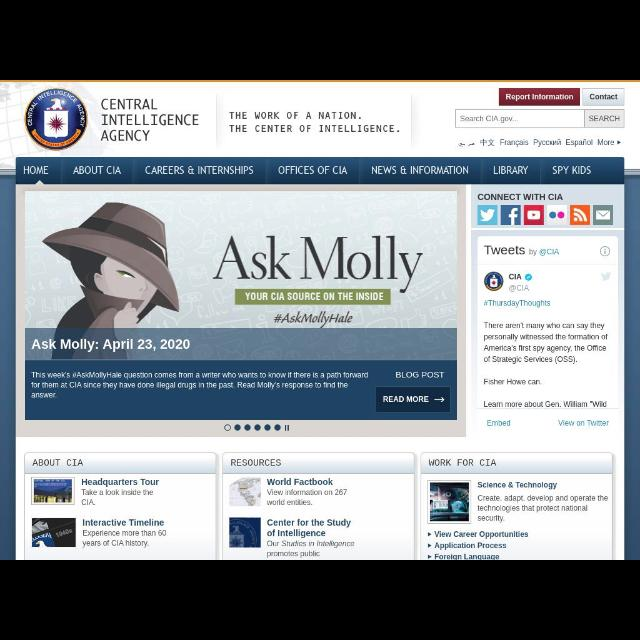backgroundimage: (25, 192, 457, 360)
icon: (600, 246, 610, 256), (601, 271, 611, 281), (524, 273, 532, 281), (434, 396, 444, 402), (284, 424, 290, 432), (428, 542, 432, 548), (428, 554, 432, 560), (617, 141, 621, 145), (428, 532, 432, 536)
image: (25, 89, 87, 151), (428, 481, 472, 524), (32, 518, 76, 548), (32, 478, 74, 504), (230, 518, 262, 548), (230, 478, 260, 507), (478, 205, 498, 225), (501, 205, 521, 225), (547, 205, 567, 225), (524, 205, 544, 225), (570, 205, 590, 225), (593, 205, 613, 225), (484, 272, 504, 290)
input: (455, 109, 585, 127)
multitab: (16, 157, 624, 183)
pageindicator: (224, 424, 282, 432)
spinner: (597, 138, 621, 146)
text: (29, 370, 369, 398), (483, 322, 609, 364), (230, 111, 400, 133), (477, 495, 609, 523), (82, 518, 168, 548), (266, 476, 348, 506), (31, 338, 190, 352), (267, 518, 351, 538), (266, 540, 354, 558), (80, 478, 160, 496), (102, 114, 200, 126), (458, 139, 594, 147), (476, 192, 564, 202), (146, 166, 254, 174), (478, 480, 558, 490), (372, 166, 468, 174), (484, 246, 560, 256), (434, 531, 528, 539), (484, 401, 608, 407), (102, 98, 158, 110), (100, 130, 150, 142), (434, 542, 506, 550), (278, 166, 348, 174), (428, 458, 498, 466), (506, 93, 574, 101), (459, 115, 518, 124), (484, 300, 550, 308), (484, 378, 542, 387), (32, 458, 84, 466), (230, 459, 282, 467), (435, 553, 501, 559), (73, 166, 121, 174), (383, 396, 429, 404), (558, 419, 608, 426), (552, 166, 592, 174), (396, 372, 444, 378), (494, 166, 528, 174), (23, 166, 49, 174), (588, 116, 620, 122), (487, 419, 511, 427), (590, 94, 618, 100), (509, 284, 529, 292), (80, 499, 98, 507), (508, 272, 522, 280), (598, 140, 614, 146)
textbutton: (376, 386, 450, 412), (498, 88, 580, 105), (582, 88, 624, 105), (586, 109, 624, 127)
toolbar: (1, 82, 640, 168)
